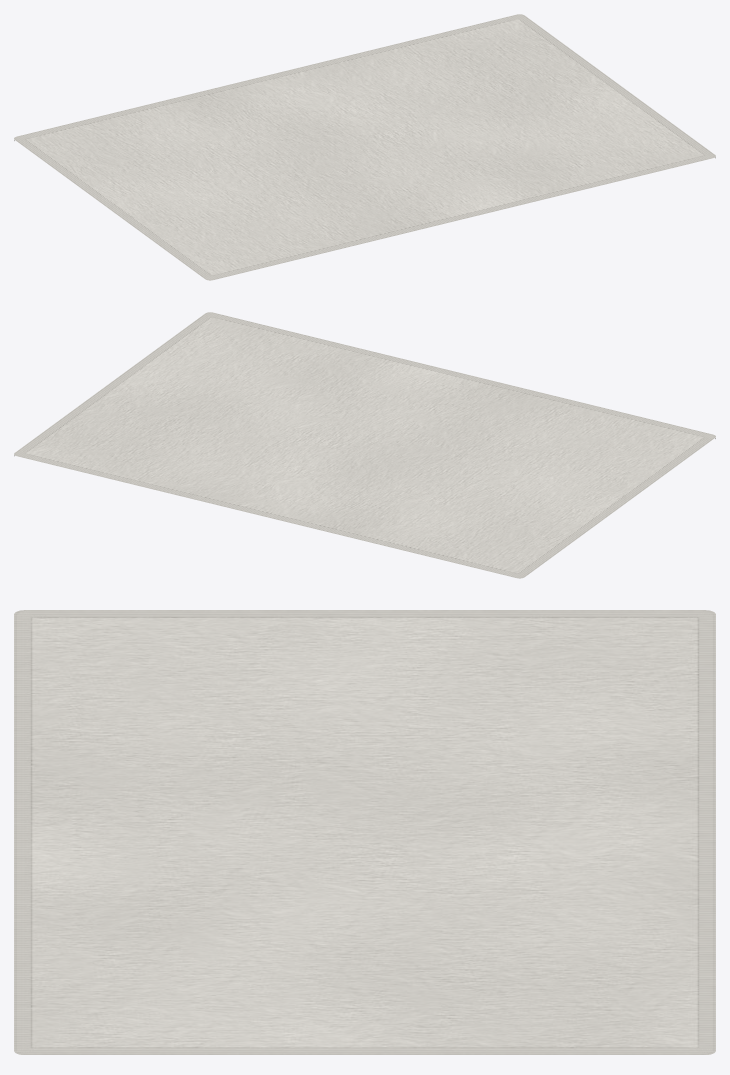
Rendered from ivory_S_r90.glb.
The picture shows the model from 3 angles, top to bottom: view 1: azimuth 30°, elevation 25°; view 2: azimuth 150°, elevation 25°; view 3: azimuth 270°, elevation 25°; orthographic projection. The views are drawn at different scales.
Visible parts, largest first — view 1: reliv_ivory_S_r90; view 2: reliv_ivory_S_r90; view 3: reliv_ivory_S_r90.
Part boxes in pixels (box(x1,y1,x2,y2)): reliv_ivory_S_r90: box(14, 14, 715, 280); reliv_ivory_S_r90: box(14, 312, 715, 578); reliv_ivory_S_r90: box(14, 610, 715, 1054).
Size of the model in its own units: 1.5 by 0.009 by 1.
2 materials, 1 textured.
